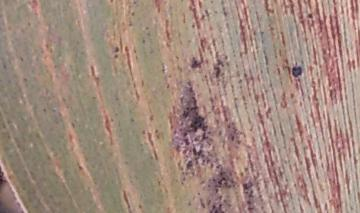tarspot: (291, 64, 303, 79), (306, 11, 315, 19), (113, 45, 120, 53), (112, 52, 119, 59)
